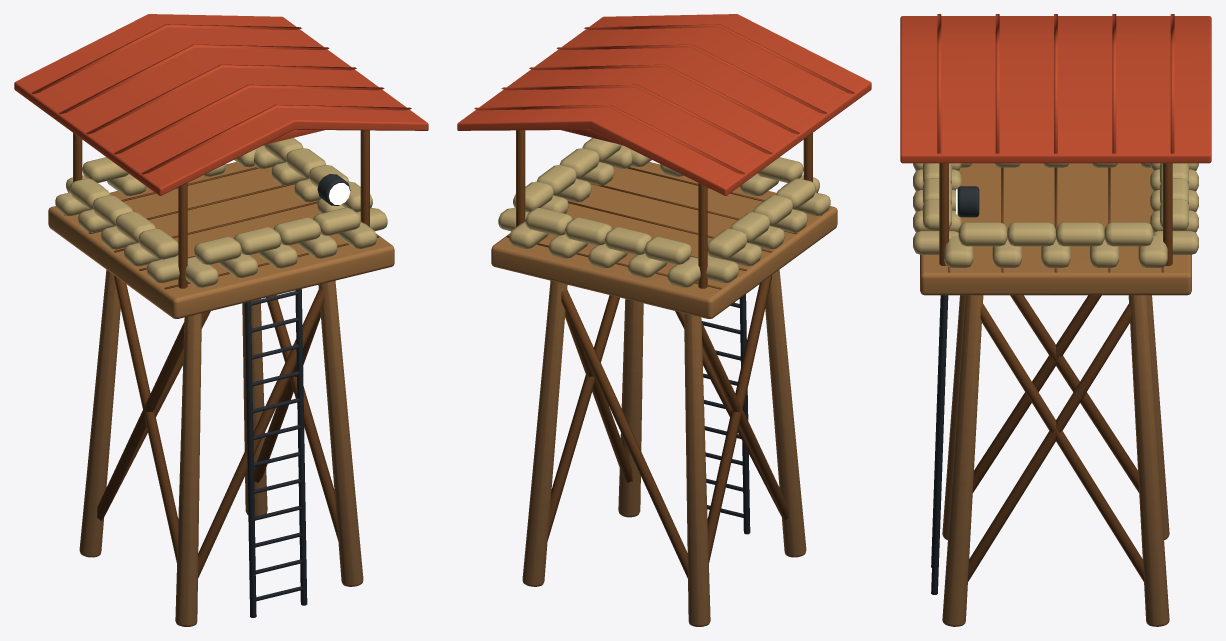
The model's file is tower.glb.
The picture shows the model from 3 angles, left to right: view 1: azimuth 30°, elevation 25°; view 2: azimuth 150°, elevation 25°; view 3: azimuth 270°, elevation 25°; orthographic projection. The views are drawn at different scales.
Visible parts, largest first — view 1: Tower roof, Platform, Tower leg, Tower leg.002, Tower leg.001, Cross brace, Cross brace.002, Tower leg.003, Ladder rail, Cross brace.001, Ladder rail.001, Cross brace.003 (+25 smaller); view 2: Tower roof, Platform, Tower leg.001, Tower leg.003, Tower leg, Tower leg.002, Cross brace.005, Cross brace.001, Cross brace.004, Cross brace, Cross brace.003, Roof rib.004 (+26 smaller); view 3: Tower roof, Platform, Tower leg.002, Tower leg.003, Cross brace.003, Cross brace.004, Cross brace, Cross brace.001, Ladder rail.001, Tower leg, Tower leg.001, Sandbag.005 (+20 smaller).
Part boxes in pixels (x1,y1,x2,y2): Tower roof: [14, 14, 428, 195]; Platform: [48, 162, 394, 318]; Tower leg: [175, 313, 201, 626]; Tower leg.002: [318, 280, 363, 586]; Tower leg.001: [79, 269, 120, 557]; Cross brace: [114, 275, 178, 562]; Cross brace.002: [198, 288, 324, 578]; Tower leg.003: [242, 299, 267, 516]; Ladder rail: [244, 301, 256, 617]; Cross brace.001: [97, 322, 184, 520]; Ladder rail.001: [295, 289, 307, 605]; Cross brace.003: [266, 295, 338, 540]; Tower roof: [457, 14, 871, 195]; Platform: [491, 162, 837, 318]; Tower leg.001: [684, 313, 710, 626]; Tower leg.003: [522, 280, 567, 586]; Tower leg: [765, 269, 806, 557]; Tower leg.002: [618, 299, 643, 517]; Cross brace.005: [561, 288, 687, 578]; Cross brace.001: [707, 275, 771, 562]; Cross brace.004: [547, 295, 619, 540]; Cross brace: [701, 322, 788, 520]; Cross brace.003: [565, 311, 632, 482]; Roof rib.004: [474, 104, 744, 174]; Tower roof: [900, 16, 1211, 163]; Platform: [920, 163, 1191, 295]; Tower leg.002: [942, 295, 983, 626]; Tower leg.003: [1128, 295, 1169, 626]; Cross brace.003: [967, 303, 1131, 581]; Cross brace.004: [980, 303, 1144, 581]; Cross brace: [972, 295, 1101, 492]; Cross brace.001: [1010, 295, 1139, 492]; Ladder rail.001: [931, 295, 948, 594]; Tower leg: [942, 295, 964, 540]; Tower leg.001: [1147, 295, 1169, 540]; Sandbag.005: [1104, 222, 1153, 246].
Size of the model in its own units: 3.4 by 6.08 by 3.2.
Materials: 6 (5 with a texture image).
